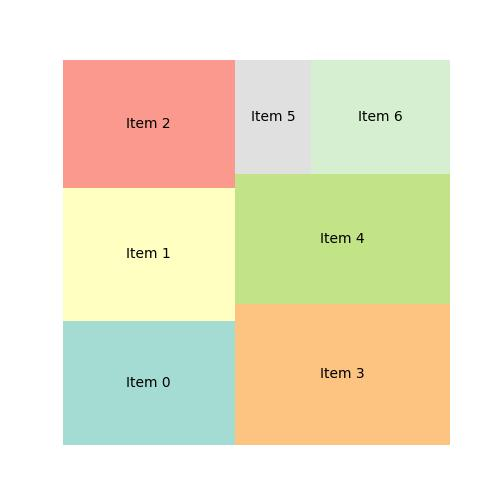rectangle: (235, 305, 451, 445), (235, 175, 449, 306), (64, 187, 236, 323), (64, 59, 235, 186), (64, 321, 234, 446), (311, 59, 451, 175), (235, 57, 311, 174)
